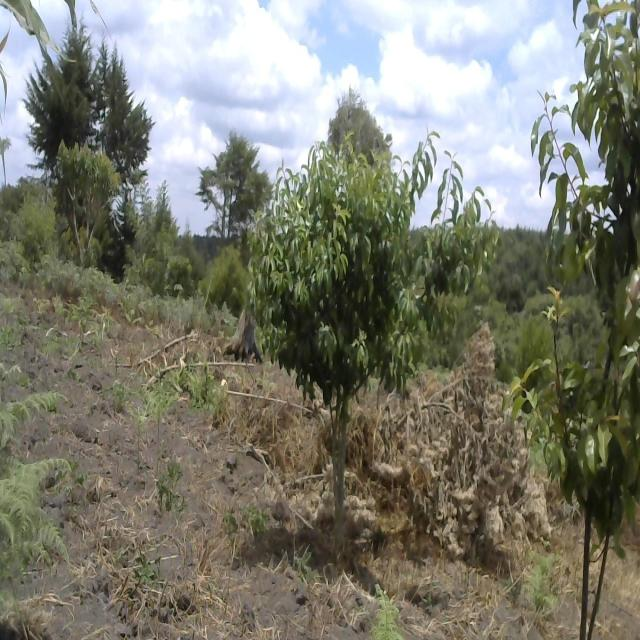Hass Avocado: (248, 140, 482, 541), (527, 0, 640, 640)
cedrus: (21, 24, 96, 178), (200, 127, 274, 236), (96, 43, 151, 181), (330, 80, 390, 174)
other: (49, 137, 121, 265)
